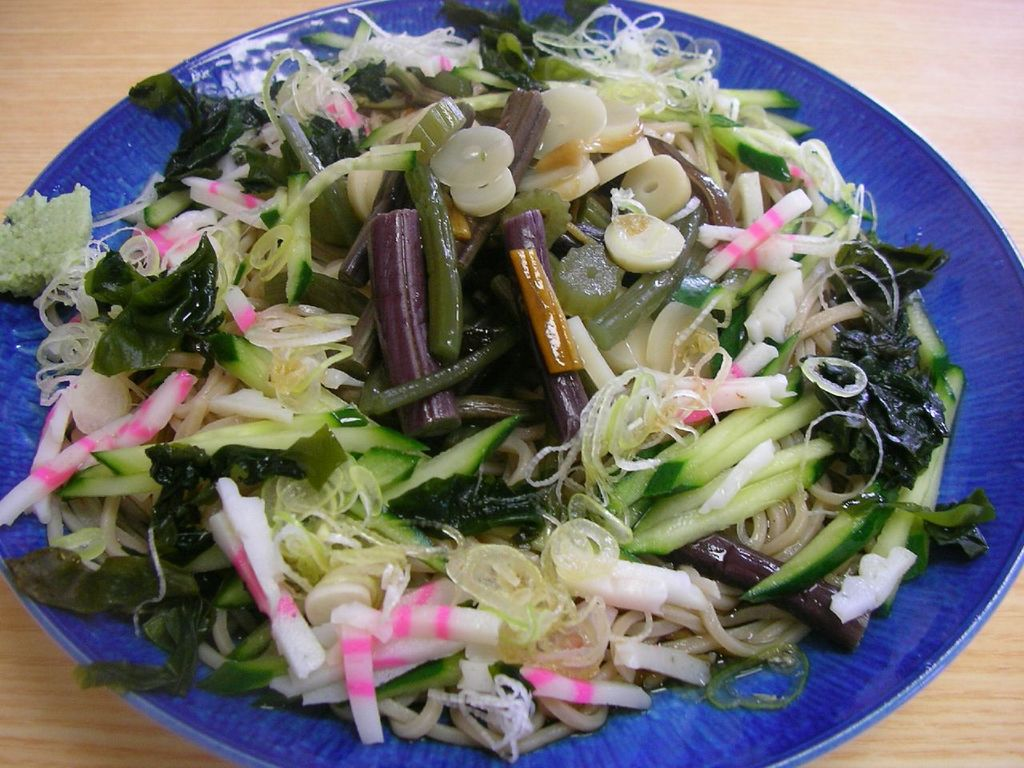salad: (0, 0, 991, 762)
